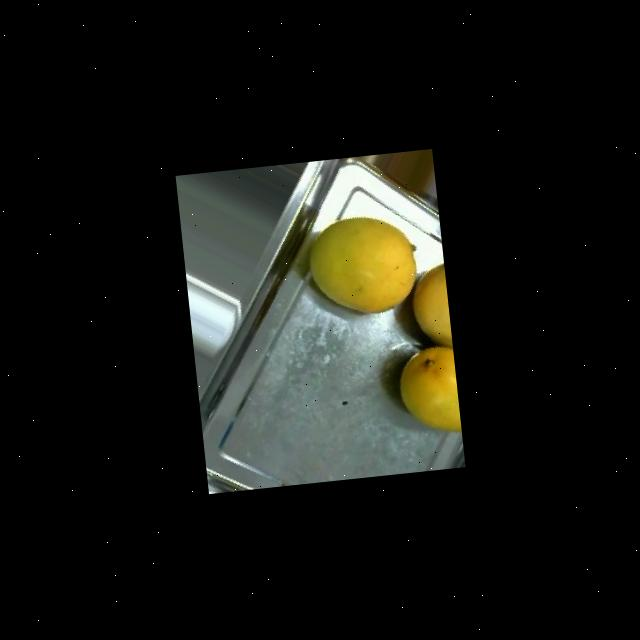Mango: (304, 210, 422, 320), (396, 344, 462, 438), (408, 261, 453, 354)
